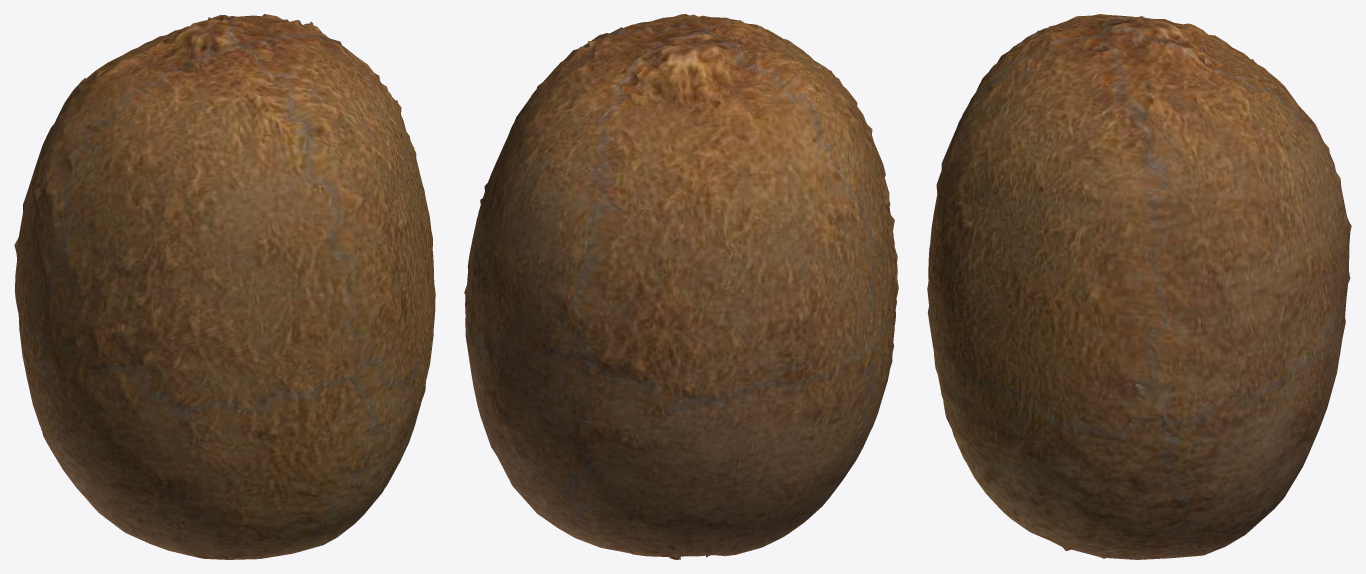
File: kiwi.glb
3 renders of one model, left to right at view 1: azimuth 30°, elevation 25°; view 2: azimuth 150°, elevation 25°; view 3: azimuth 270°, elevation 25°, orthographic.
Parts seen in each view (by area): view 1: kiwi_body; view 2: kiwi_body; view 3: kiwi_body.
Boxes of the visible parts, left/top/right/bottom form: kiwi_body: left=14, top=14, right=435, bottom=559; kiwi_body: left=464, top=14, right=898, bottom=559; kiwi_body: left=927, top=14, right=1351, bottom=559.
Size of the model in its own units: 0.1544 by 0.2 by 0.1524.
1 material, 1 textured.
